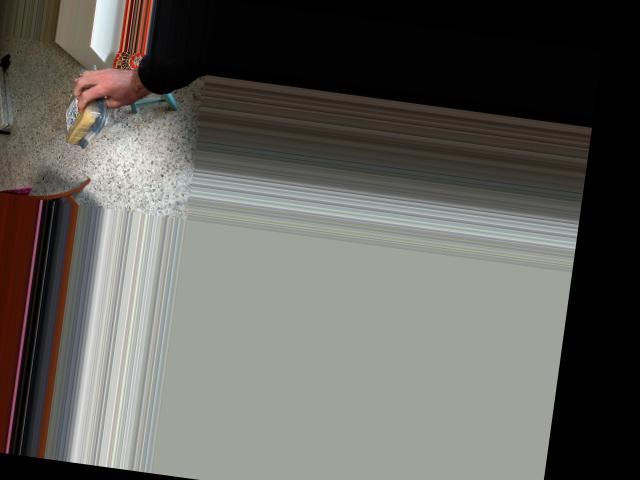cheese: (56, 72, 113, 153)
